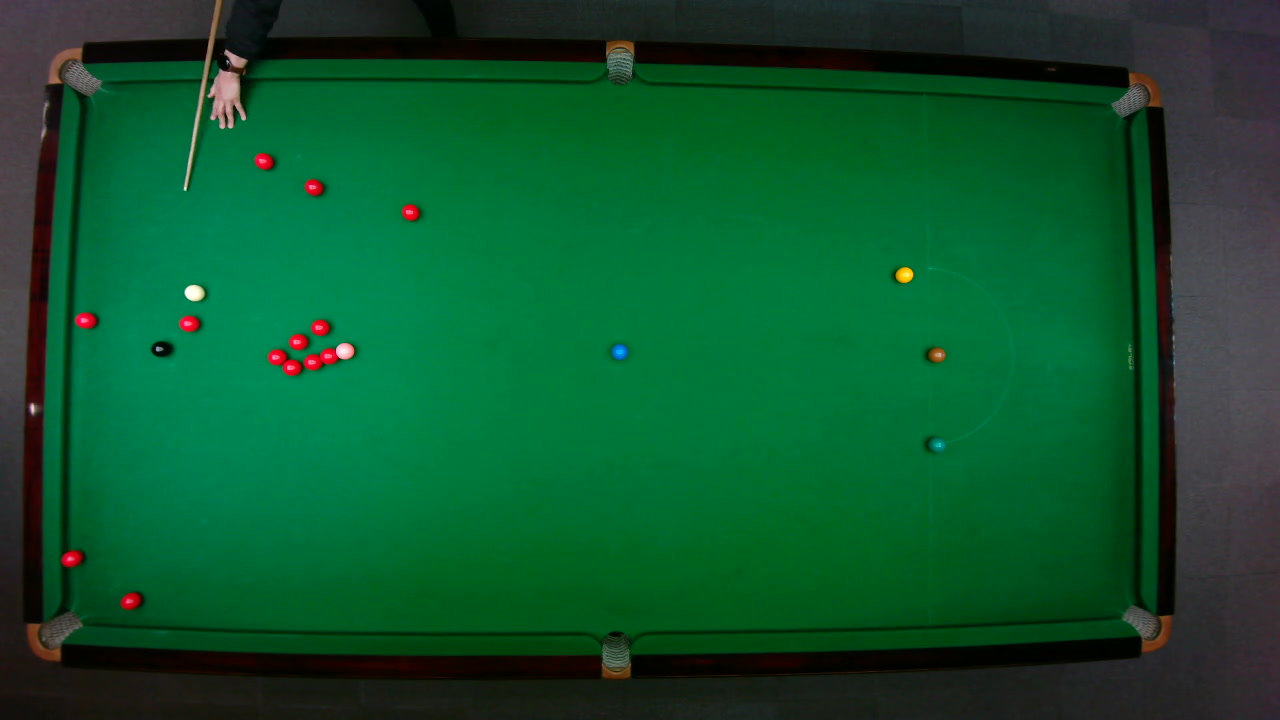bag: (25, 609, 83, 661), (46, 47, 103, 96), (1119, 603, 1171, 652), (1108, 71, 1161, 118), (600, 629, 630, 680), (605, 38, 633, 85)
black: (149, 339, 171, 357)
blue: (610, 342, 628, 360)
brown: (926, 346, 945, 362)
cue: (181, 0, 222, 193)
green: (926, 435, 946, 452)
pink: (334, 341, 355, 360)
red: (118, 590, 142, 610), (59, 548, 83, 567), (73, 310, 97, 329), (176, 314, 200, 332), (302, 177, 324, 196), (265, 347, 287, 366), (253, 151, 274, 170), (400, 202, 420, 221), (309, 317, 330, 335), (287, 332, 308, 350), (302, 352, 323, 370), (281, 358, 302, 376), (319, 346, 337, 365)
white: (182, 282, 206, 301)
yellow: (893, 265, 914, 283)
zone: (926, 265, 1014, 445)
